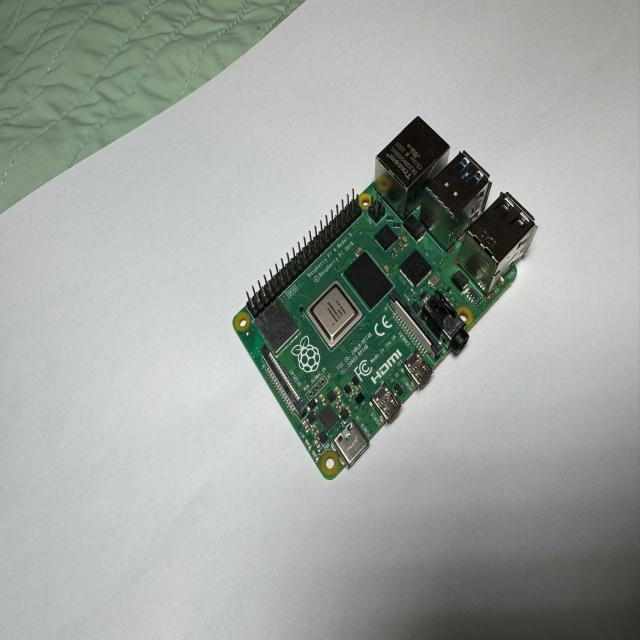CPU: (307, 280, 367, 348)
Ethernet: (375, 118, 450, 212)
GPIO: (243, 191, 374, 318)
RAM: (343, 247, 396, 311)
Raspberry: (231, 119, 538, 482)
micro-hdmi: (372, 358, 436, 423)
